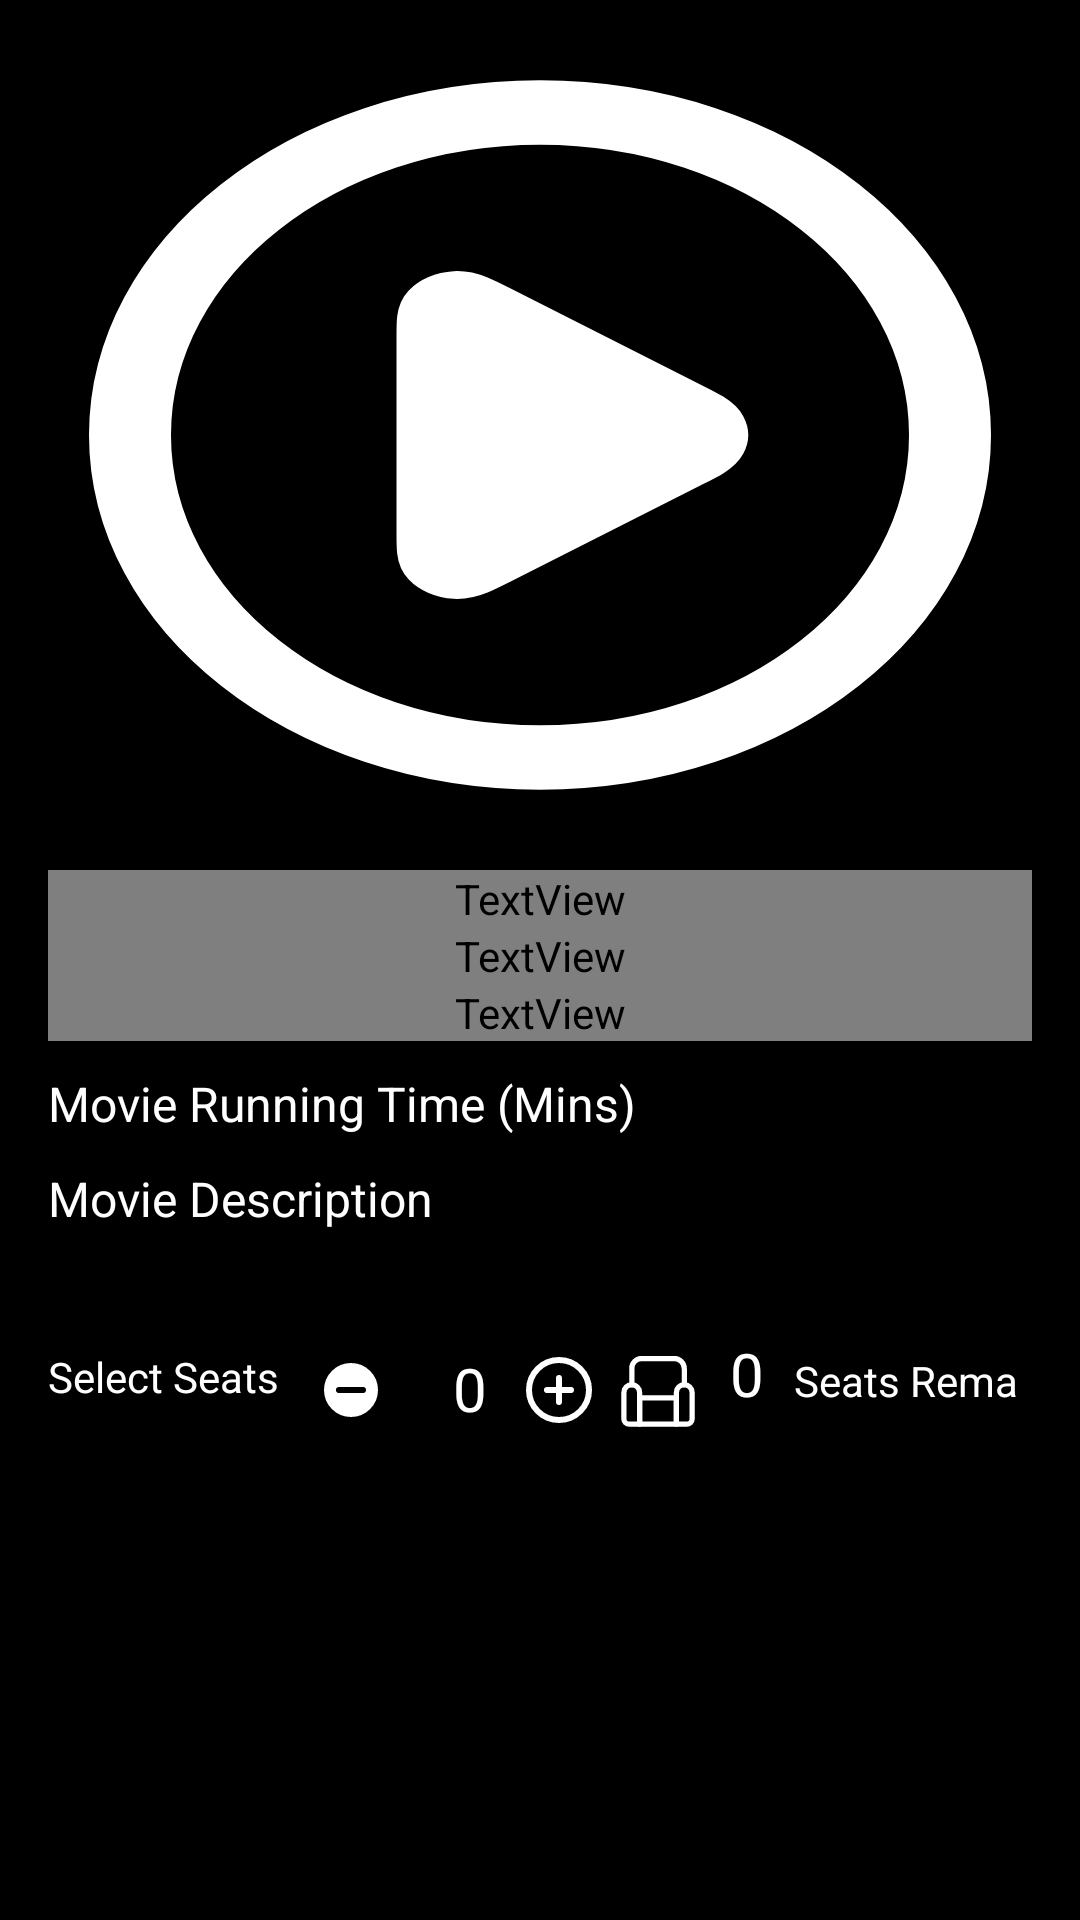

Icon click points for this 1080×1920 phone screenshot, format (x,y):
minus button Icon: (351,1390)
plus button icon: (559,1390)
